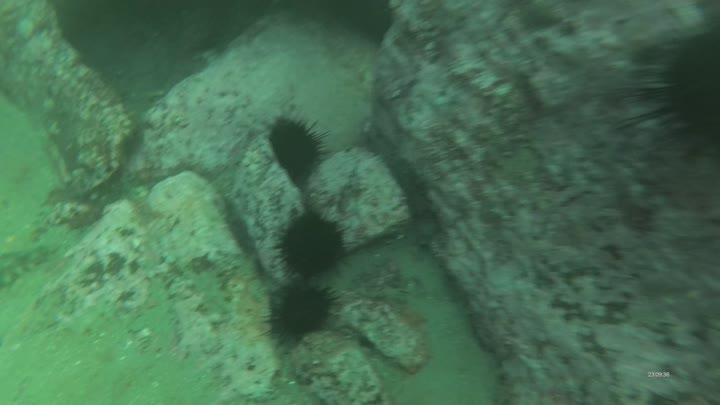echinus: (622, 25, 720, 167), (270, 206, 358, 285), (264, 278, 348, 345), (268, 110, 333, 189)
holothurian: (1, 243, 50, 291)
